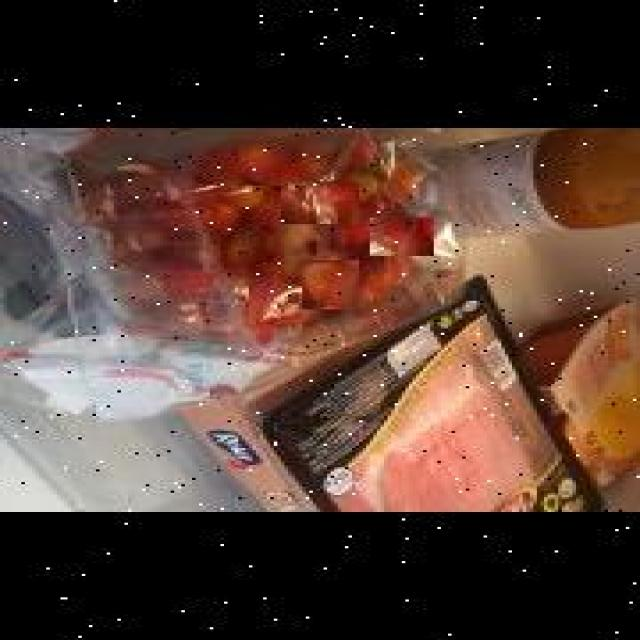tomato: (194, 148, 265, 208), (278, 181, 356, 224), (234, 140, 298, 186), (298, 260, 356, 310), (245, 278, 299, 324), (364, 218, 428, 256), (217, 226, 270, 265), (327, 138, 377, 170)
